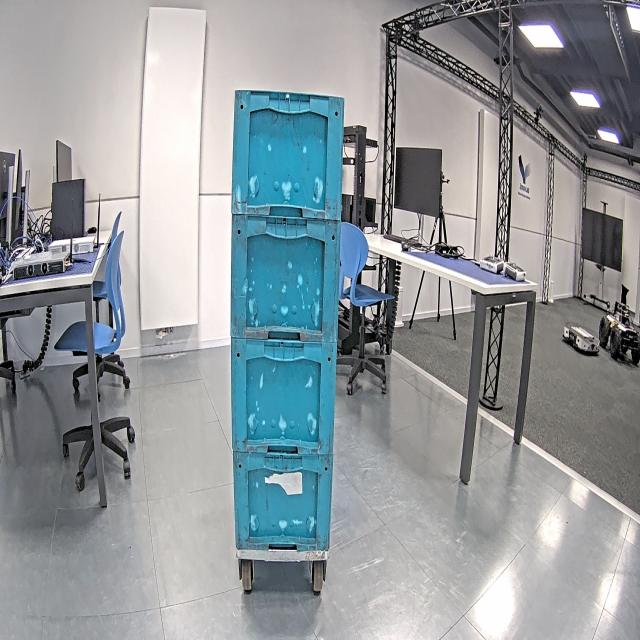BoxB4: (231, 88, 346, 562)
